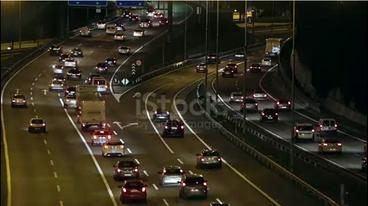car: (175, 169, 214, 203), (155, 163, 192, 190), (117, 178, 152, 205), (110, 157, 144, 183), (191, 147, 226, 171), (291, 118, 321, 146), (98, 136, 130, 160), (158, 116, 188, 141), (316, 135, 347, 158), (245, 85, 273, 104), (91, 126, 114, 148), (8, 88, 30, 111), (150, 105, 175, 124), (23, 116, 49, 134), (256, 106, 282, 124), (319, 115, 343, 134), (240, 96, 260, 116), (63, 92, 82, 111), (274, 96, 296, 112), (228, 90, 249, 104)
truck: (78, 96, 111, 132)
